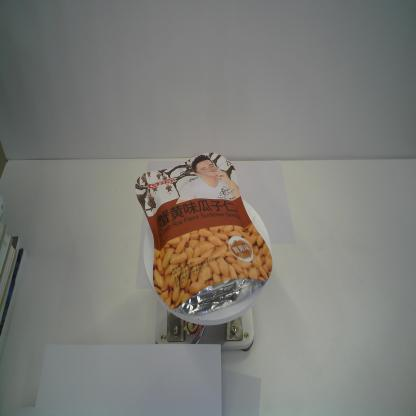Dried Fruit: (135, 152, 273, 316)
